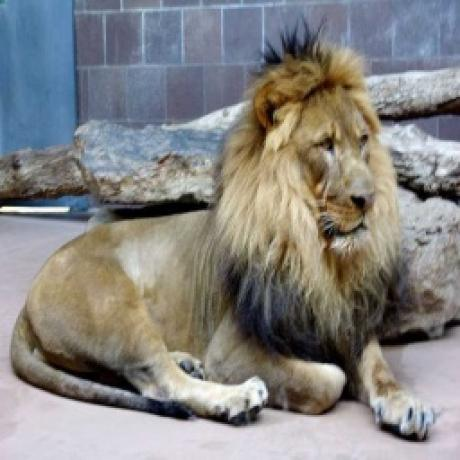Lion: (9, 23, 440, 442)
